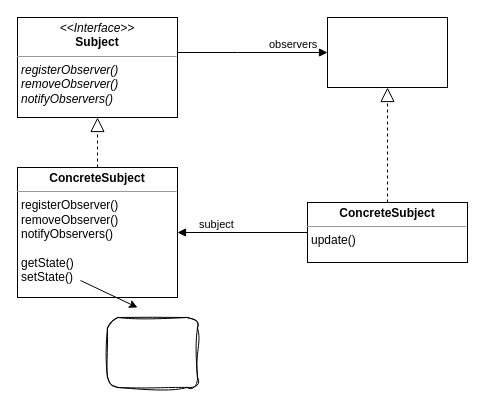
Some shapes in this 485 by 405 pixel diagram are drawn without their labels. The shapes that lost their labels are listed below. From the top down, each one's box as (x1, y1, x2, y2) in pixels, then its label:
(326, 16, 448, 88): <<Interface>> Observer update()
(106, 316, 198, 388): setState(){ ... notifyObservers() }
